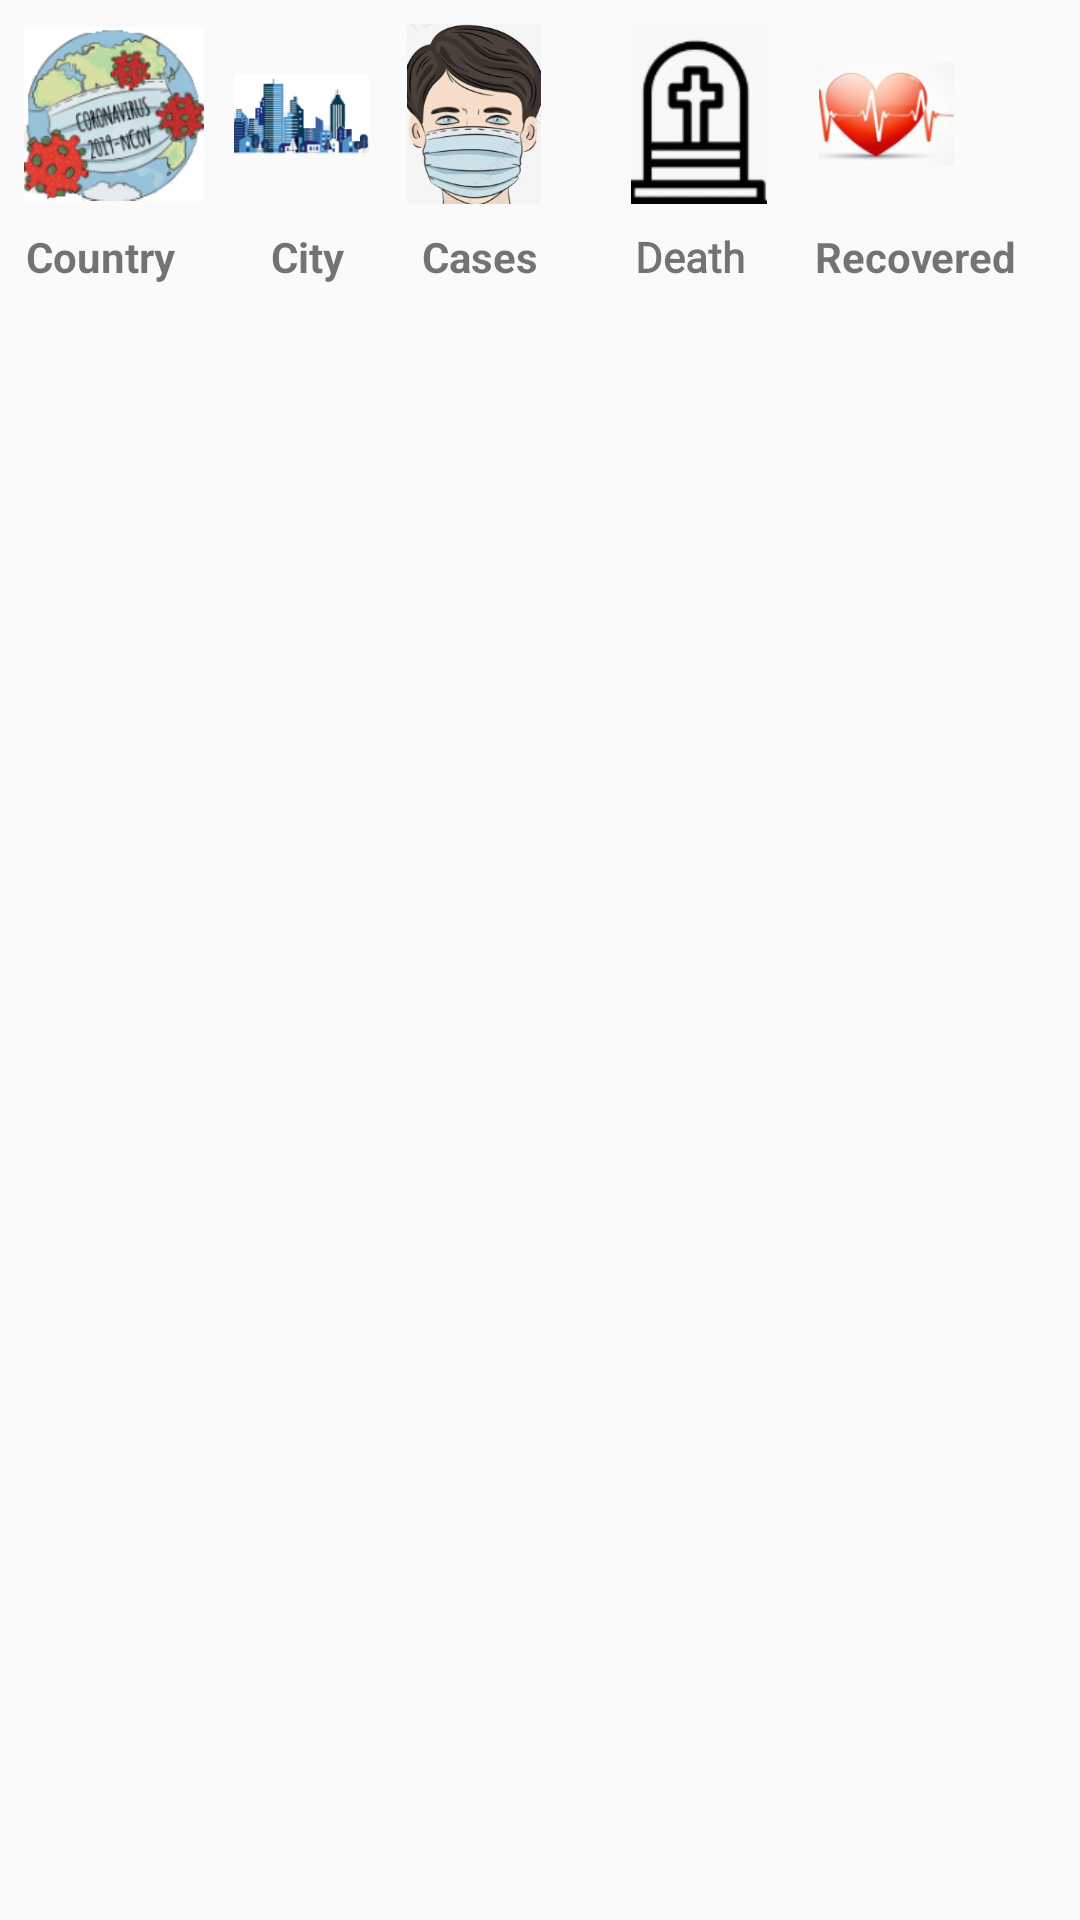

Screen size 1080 x 1920. Icon name, then its center in pixels as [x,y]:
world: [114,115]
